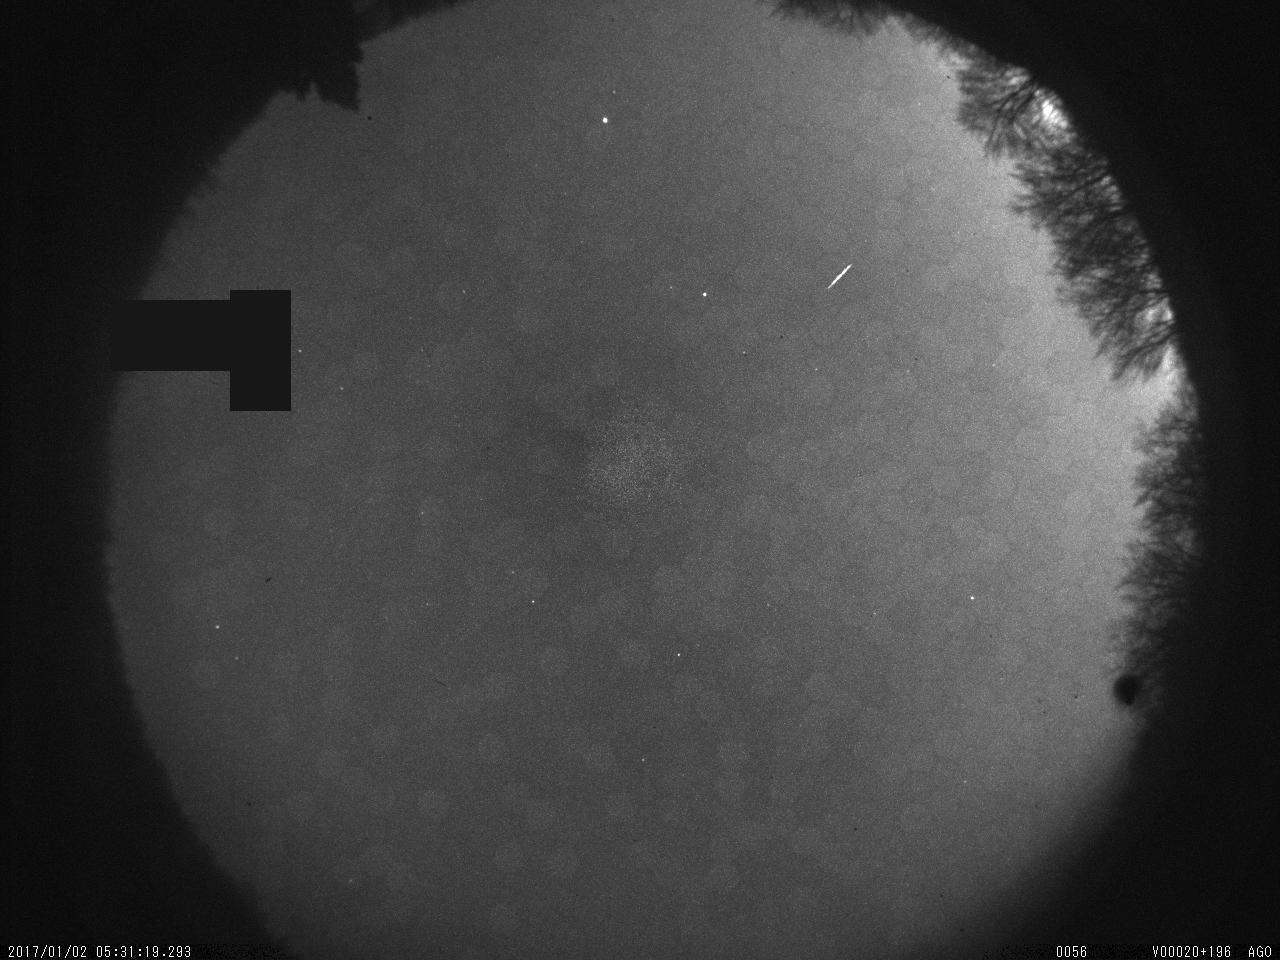meteor: (819, 254, 868, 299)
